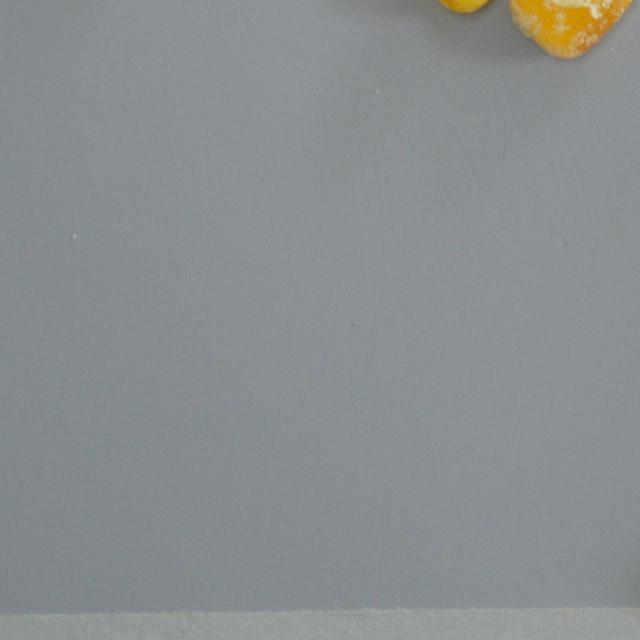pelicula: (509, 0, 632, 60), (404, 0, 522, 12)
